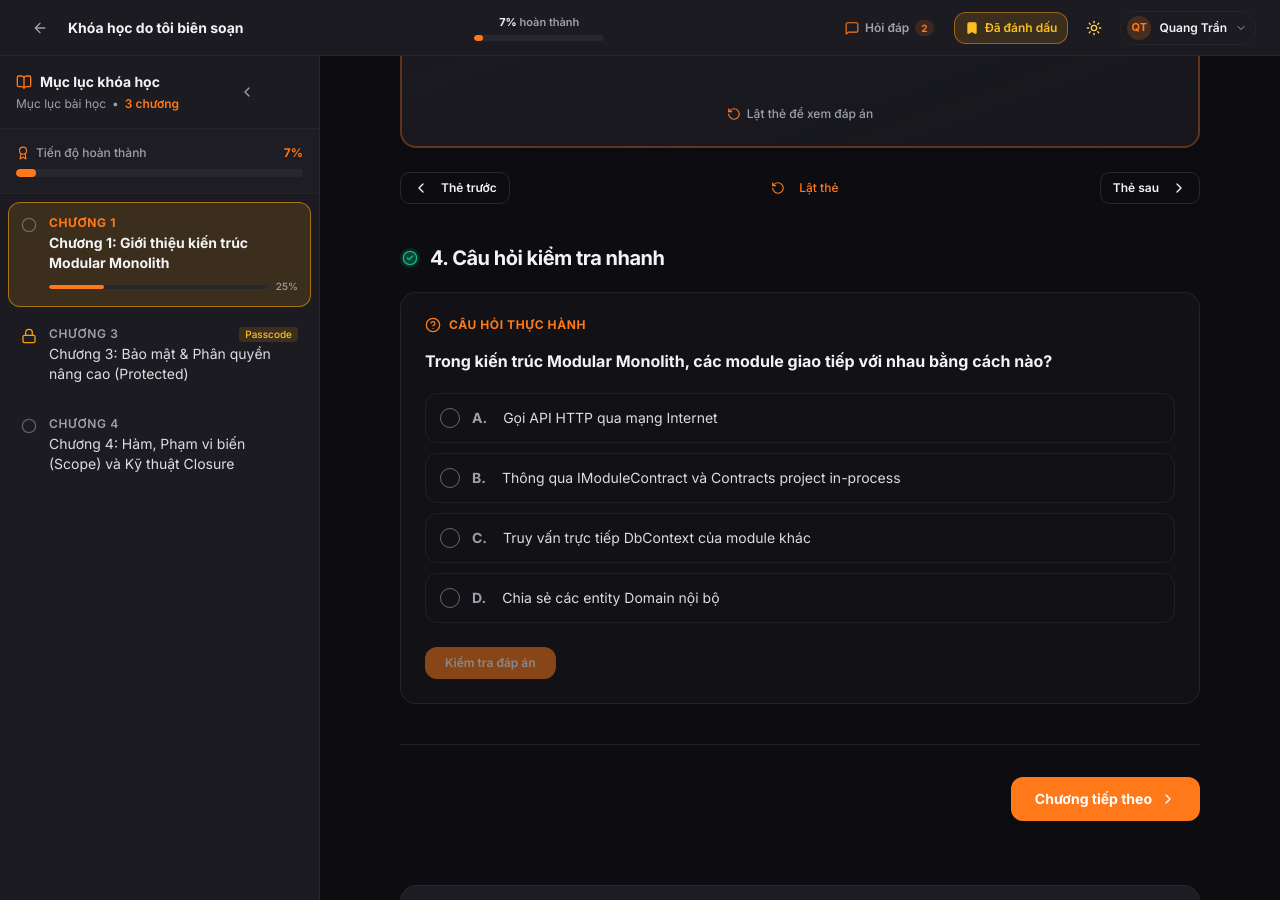
S4 Enrollment & Learning Suite (SCR-CRS-05, SCR-CRS-06, SCR-LRN-01, SCR-LRN-07) › SCR-LRN-01: Trình học tập Learning Player (/courses/:courseId/learn) › renders interactive practice question and checks answer
(page scrolled)
Expected: the text "Câu hỏi thực hành" is shown, x1=449 y1=317 x2=586 y2=333
Expected: the text "Trong kiến trúc Modular Monolith, các module giao tiếp với nhau bằng cách nào?" is shown, x1=425 y1=351 x2=1052 y2=371
Click the text "Thông qua IModuleContract và Contracts project in-process": (701, 478) x1=502 y1=469 x2=901 y2=486
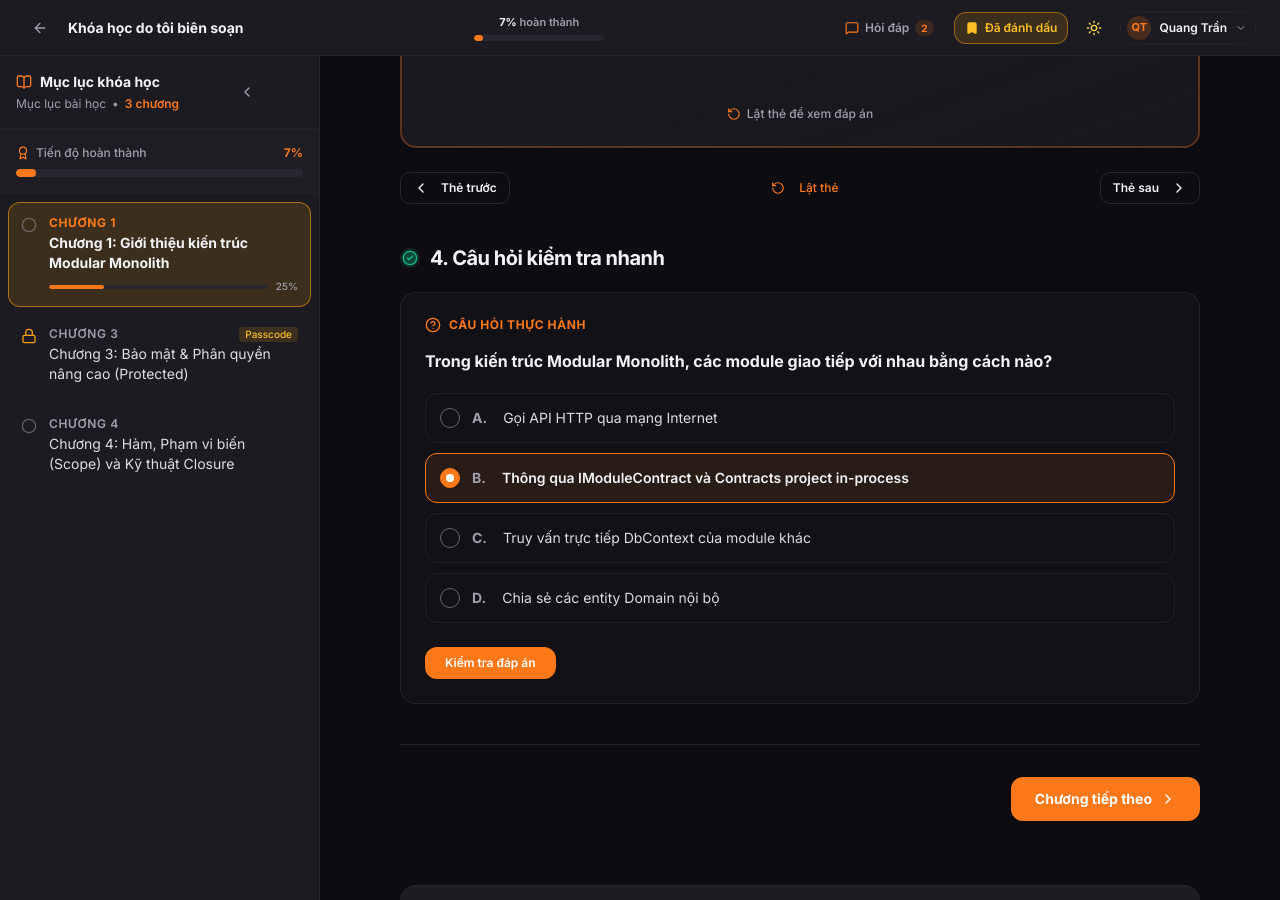
Click the button "Kiểm tra đáp án": (490, 663) x1=425 y1=647 x2=556 y2=679
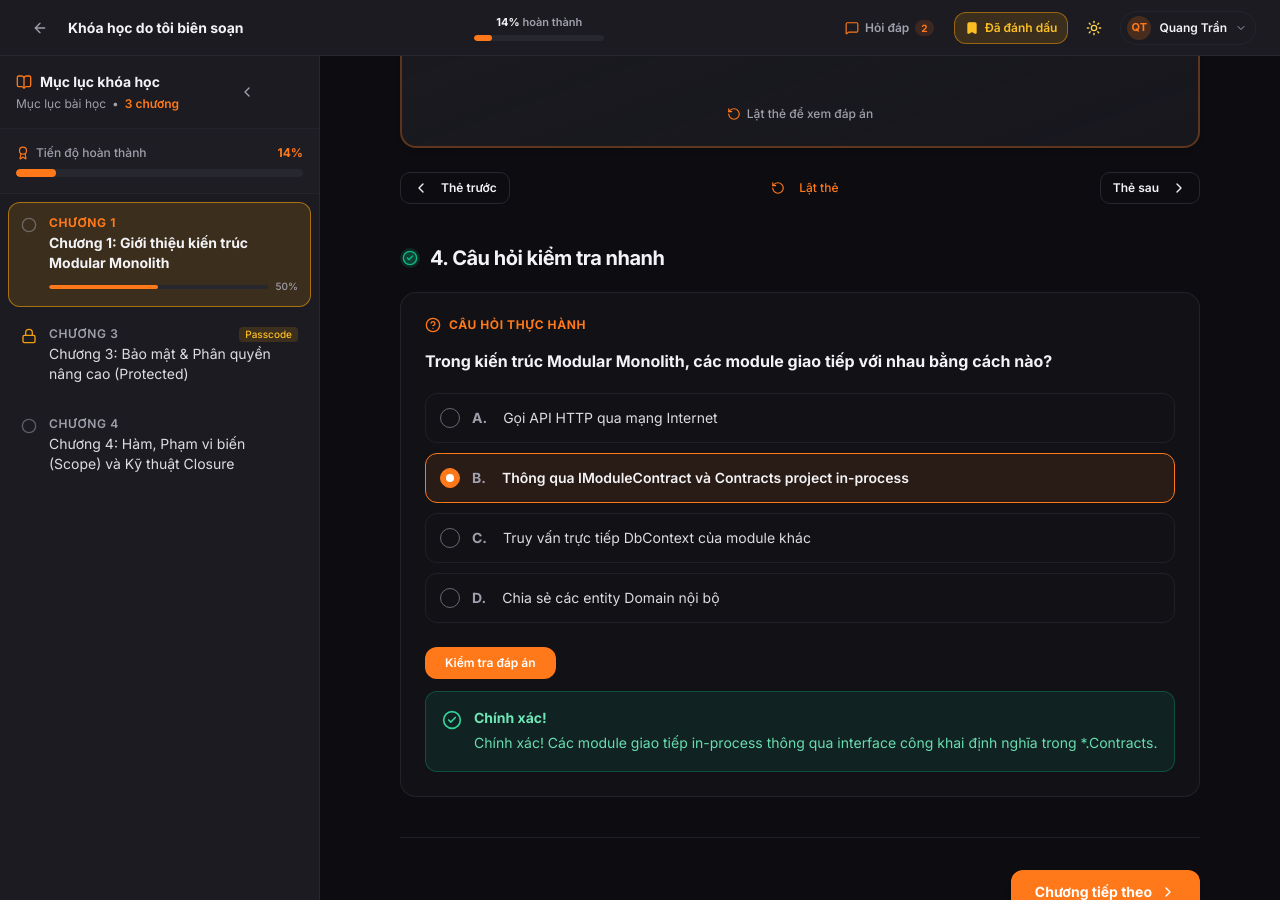
Expected: the text "Chính xác!" is shown, x1=474 y1=709 x2=547 y2=726
